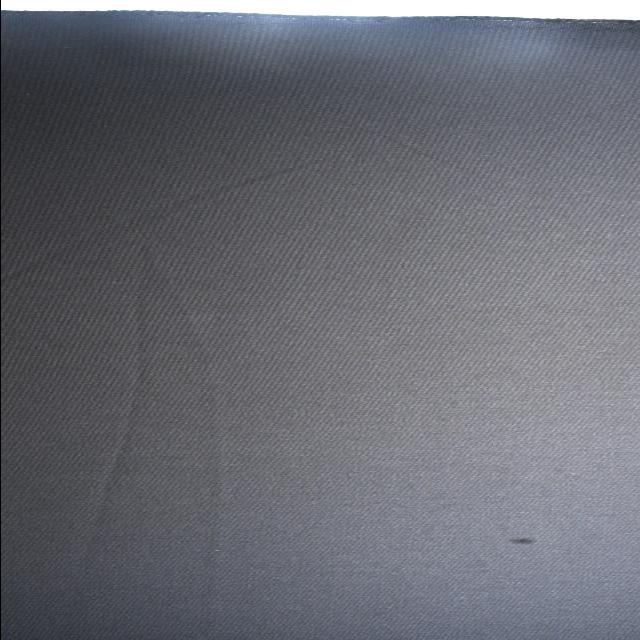crease: (55, 248, 210, 639), (9, 157, 337, 291)
